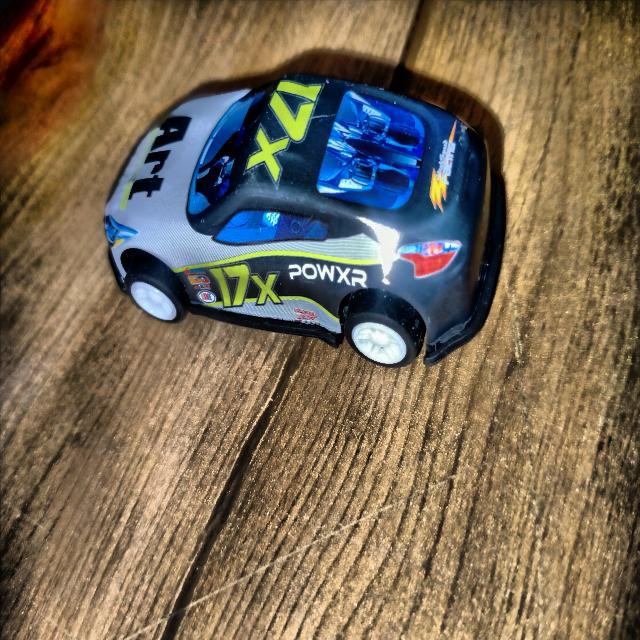Car: (106, 74, 504, 367)
